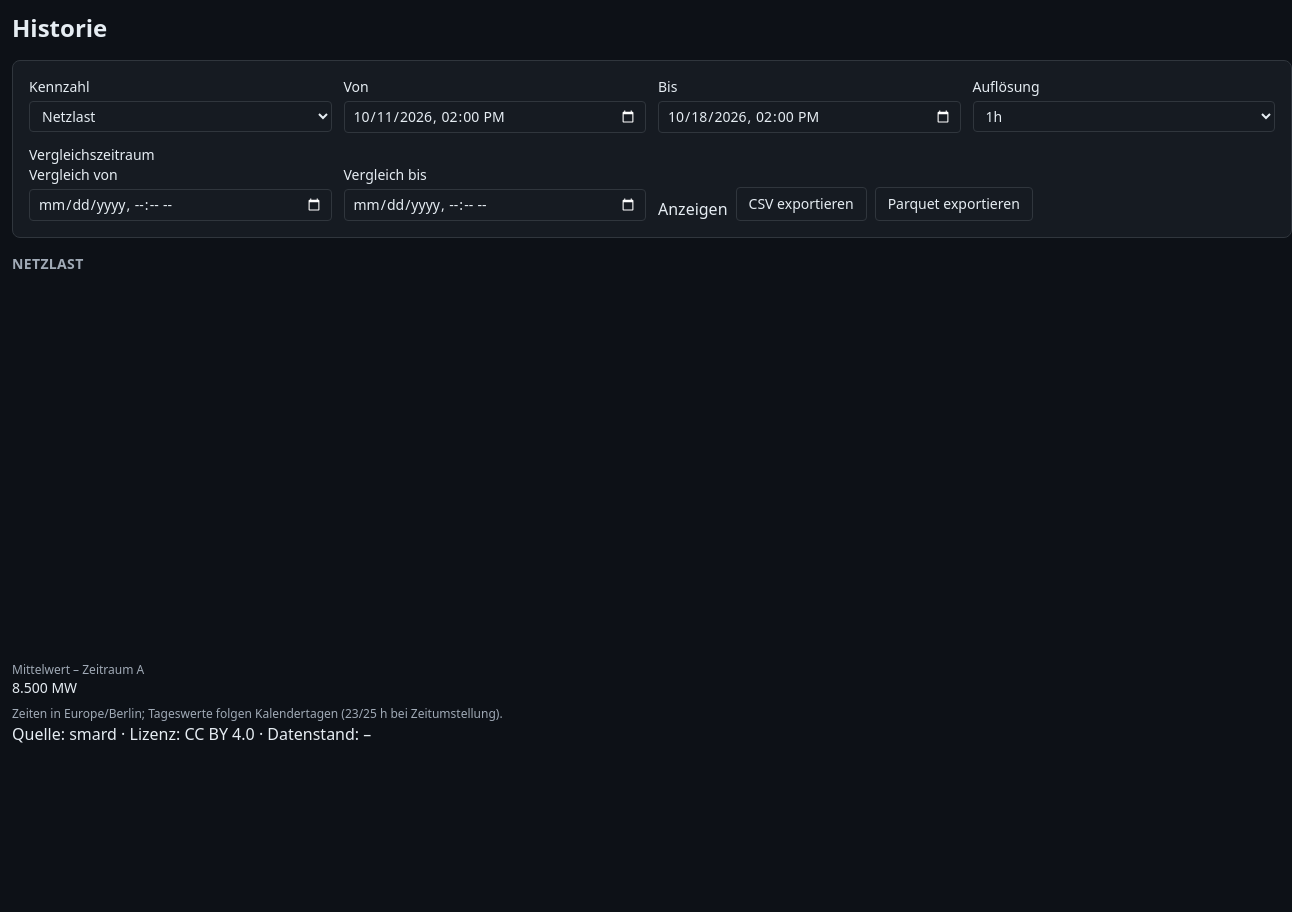
Test: other views › HistoryView loads, compares and offers exports
Expected: the text "Mittelwert – Zeitraum A" is shown, [12, 662, 144, 678]
Type "2025-10-11T12:00" into the field labelled "Vergleich von".
click(180, 205); type("2025-10-11T12:00")  # box [29, 189, 332, 221]
Type "2025-10-18T12:00" into the field labelled "Vergleich bis".
click(495, 205); type("2025-10-18T12:00")  # box [344, 189, 646, 221]
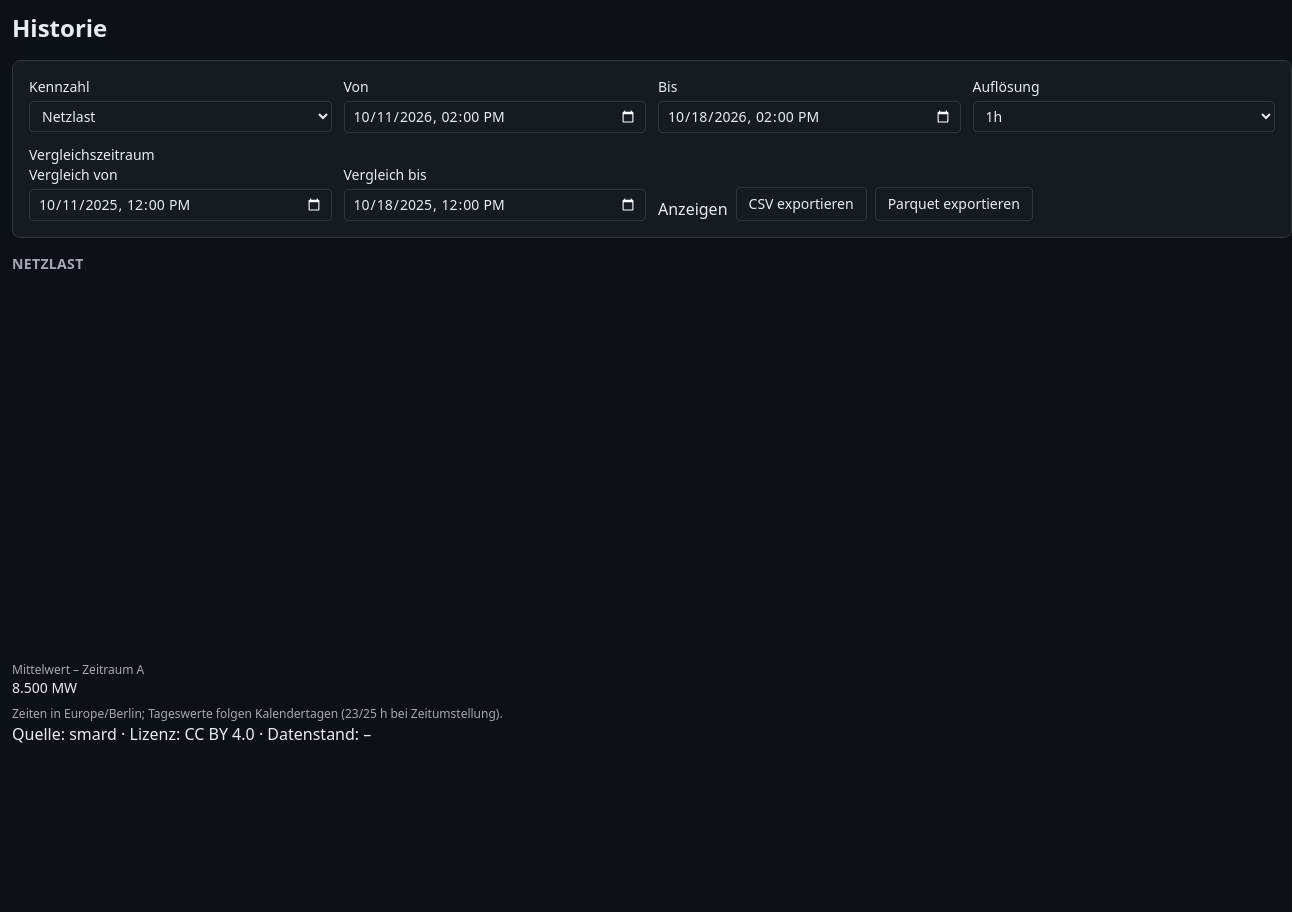
Select "Day-Ahead-Preis" in the dropdown labelled "Kennzahl" at (180, 116), box [29, 101, 332, 132]
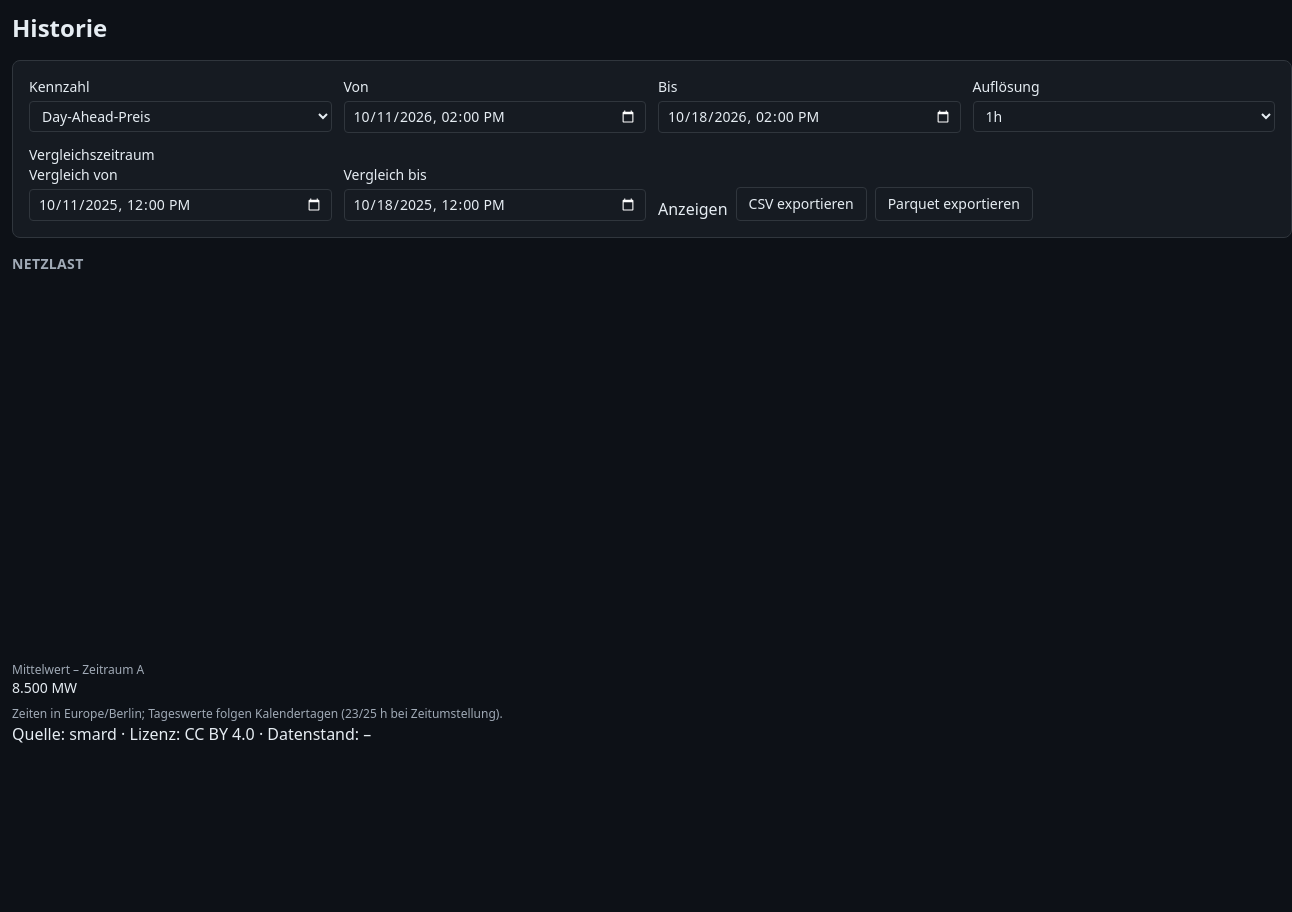
Select "1d" in the dropdown labelled "Auflösung" at (1124, 116), box [972, 101, 1275, 132]
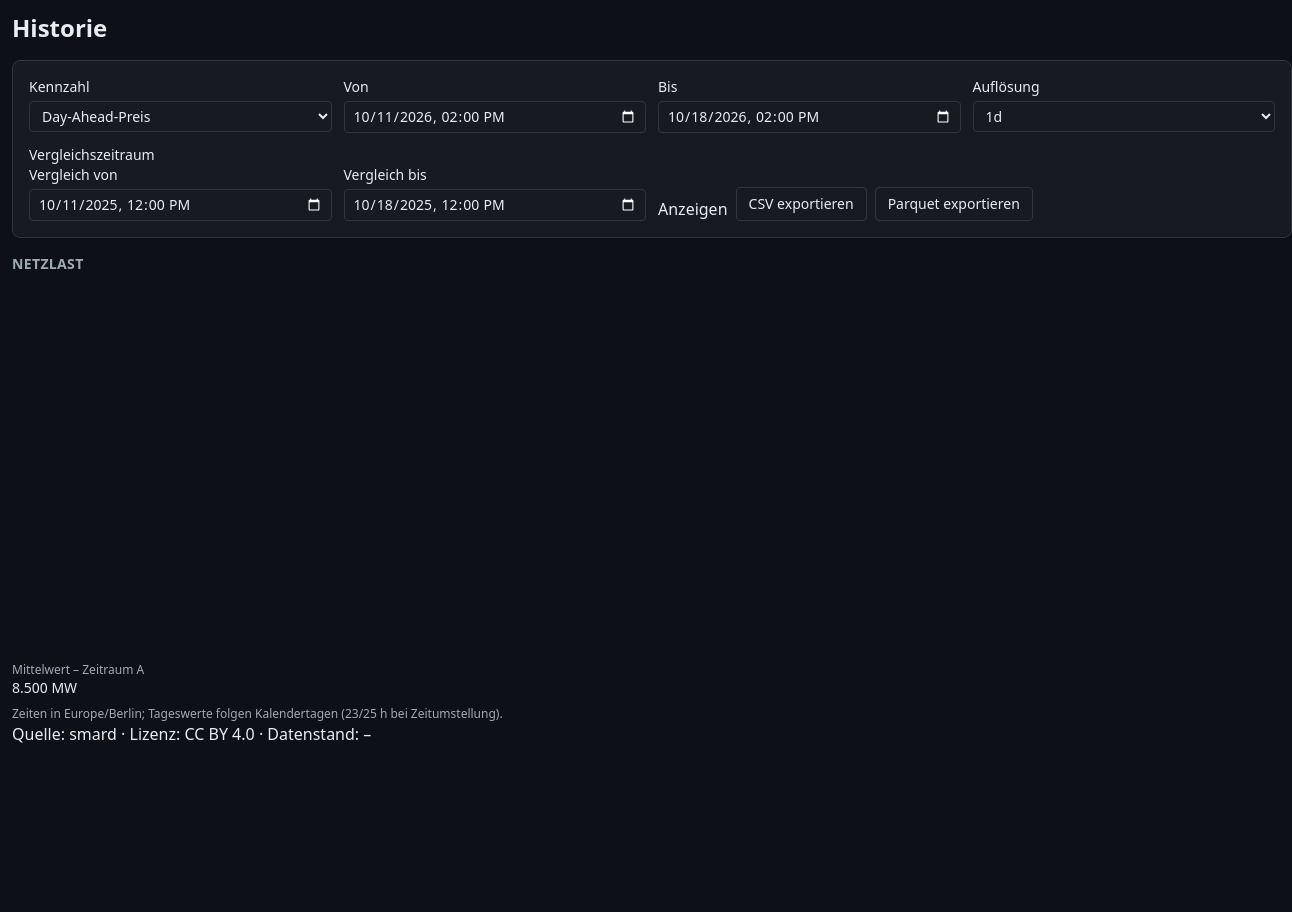
Replace the text in the field labelled "Von" with "2026-10-10T00:00" at (495, 117), box [344, 101, 646, 133]
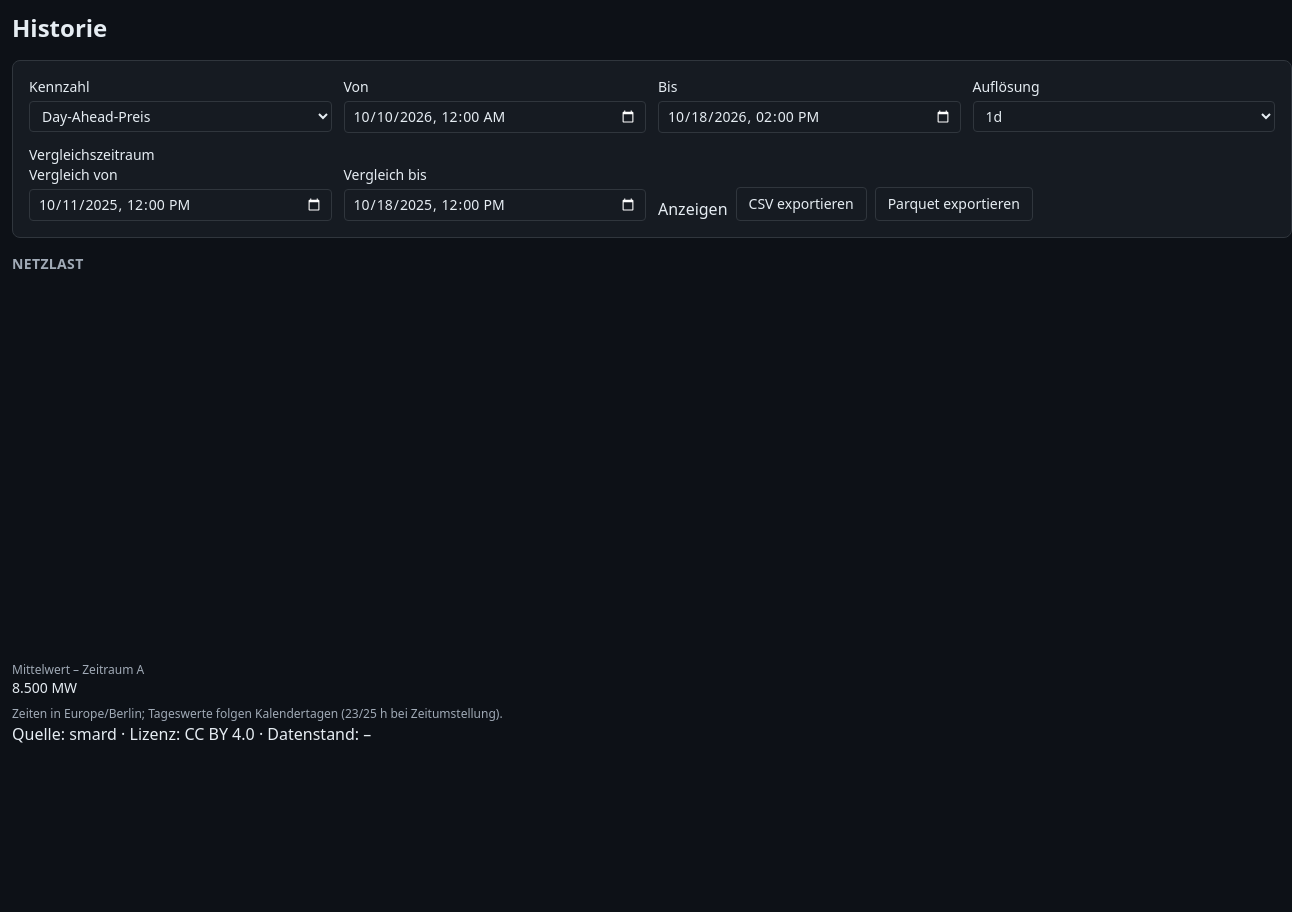
Replace the text in the field labelled "Bis" with "2026-10-18T00:00" at (809, 117), box [658, 101, 960, 133]
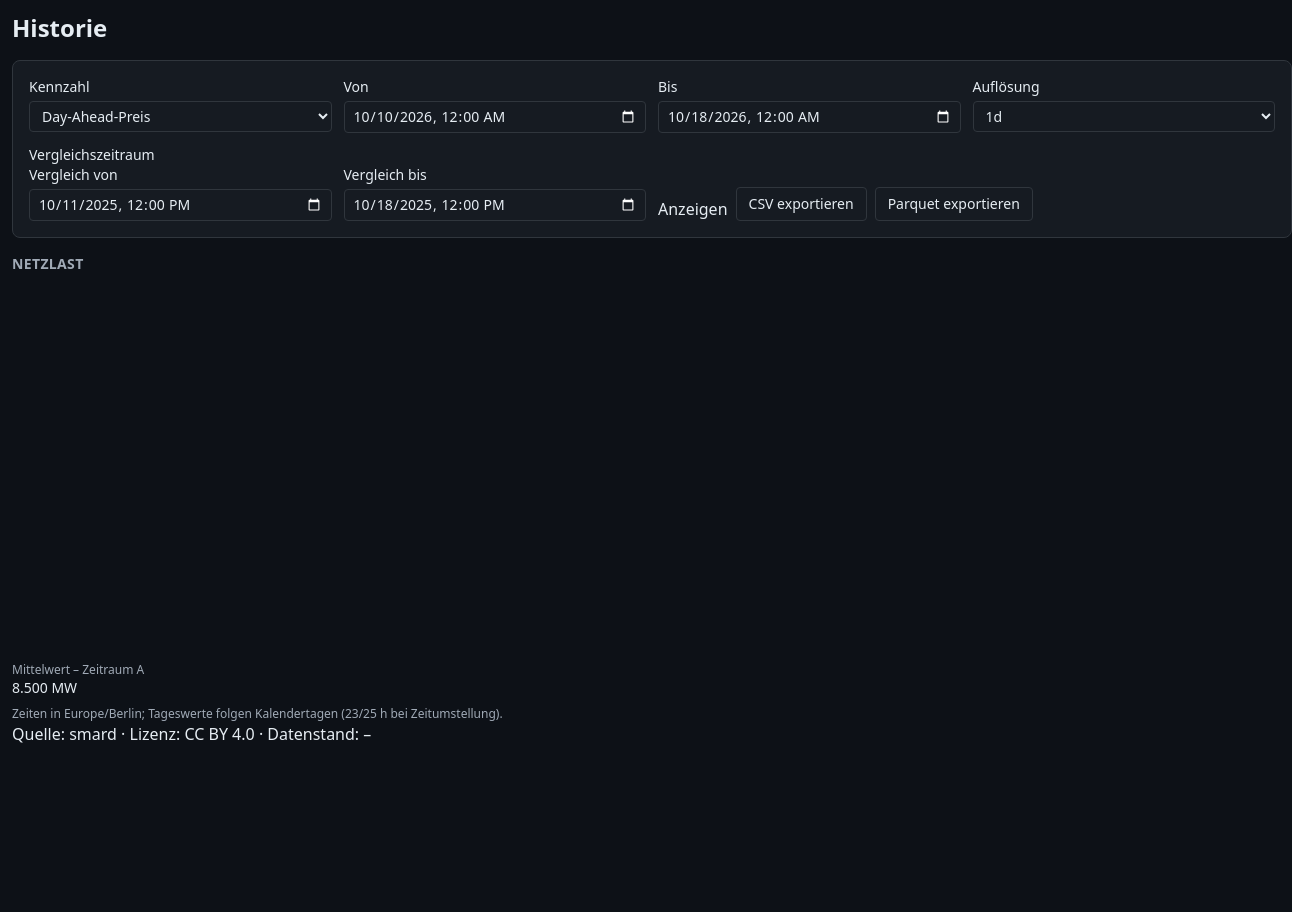
Click the button "Anzeigen".
click(693, 209)  # box [658, 197, 728, 221]
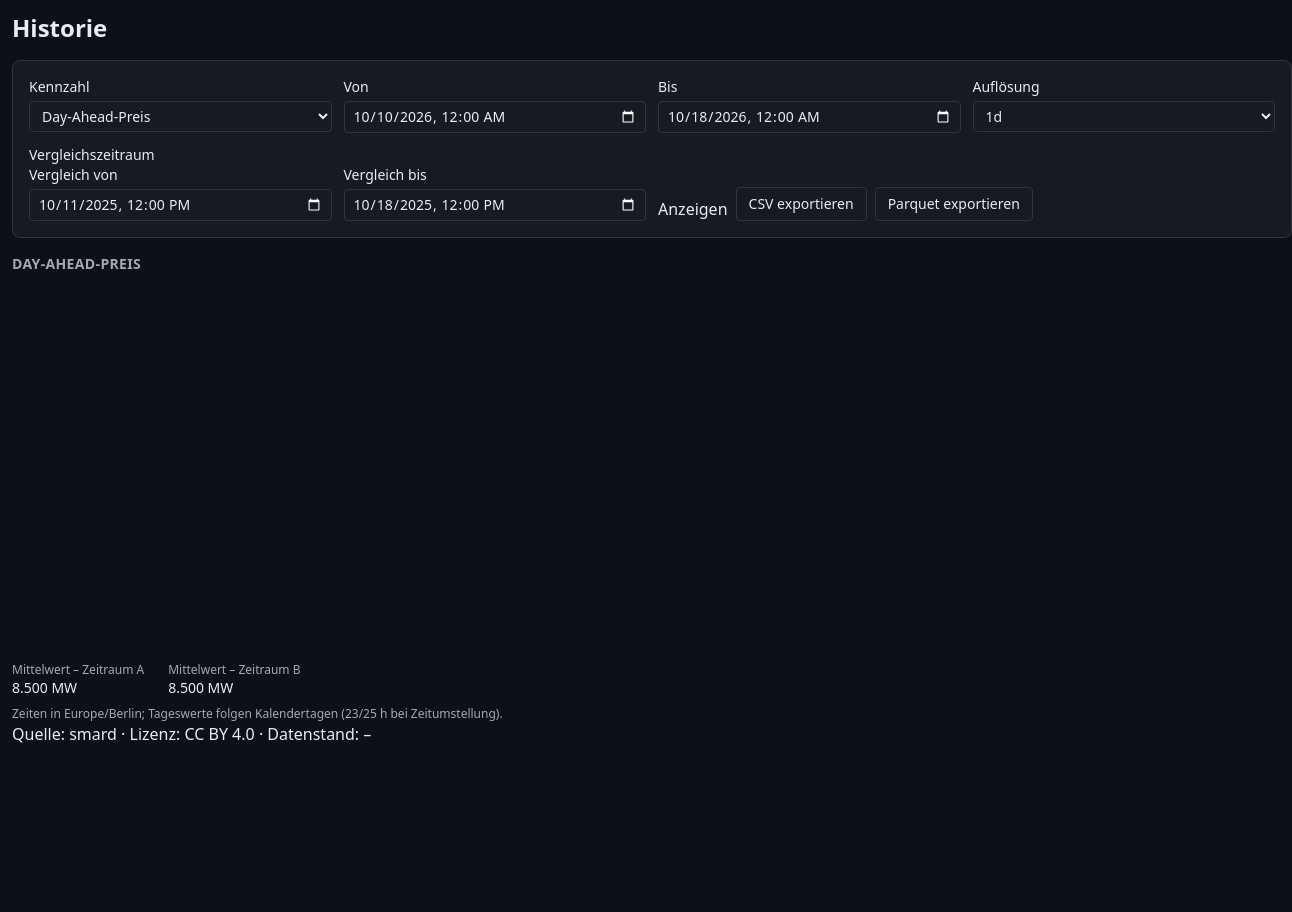
Expected: the text "Mittelwert – Zeitraum B" is shown, [168, 662, 300, 678]
